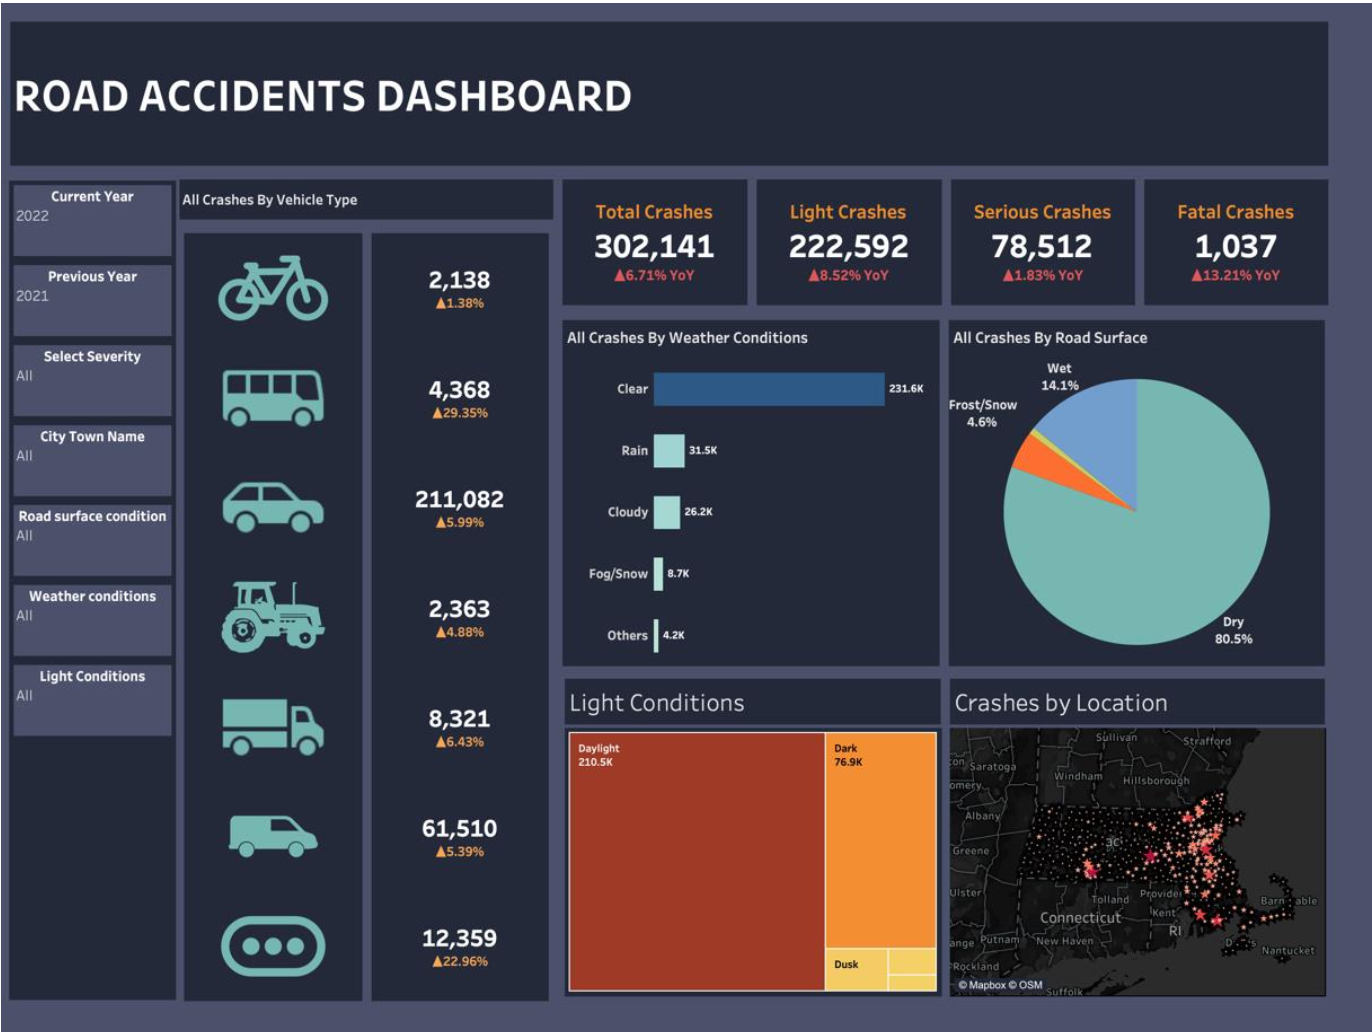

Layout of this report page (visuals, bound fields, positions):
{"tool":"tableau","page":{"name":"Dashboard 1","canvas":[1600,900],"ordinal":0},"visuals":[{"type":"text","box":[10,16,1538,126]},{"type":"text","box":[203,150,446,43]},{"type":"worksheet","title":"Total Crashes","mark":"Automatic","box":[649,150,226,118]},{"type":"worksheet","title":"Light Crashes","mark":"Automatic","box":[875,150,226,118]},{"type":"worksheet","title":"Serious Crashes","mark":"Automatic","box":[1101,150,226,118]},{"type":"worksheet","title":"Fatal Crashes","mark":"Automatic","box":[1327,150,226,118]},{"type":"parameter","param":"[Parameters].[Parameter 1]","box":[9,155,195,70]},{"type":"worksheet","title":"Vehicle Type Images","mark":"Shape","rows":["Vehicle_configuration"],"box":[207,197,219,680]},{"type":"worksheet","title":"Vehicle Type KPI","mark":"Automatic","rows":["Vehicle_configuration"],"box":[426,197,219,680]},{"type":"parameter","param":"[Parameters].[Current Year (copy)_895653406331645953]","box":[9,225,195,70]},{"type":"worksheet","title":"Weather Condition","mark":"Bar","rows":["Weather_conditions"],"cols":["Calculation_792915040177762305"],"box":[649,273,450,311]},{"type":"worksheet","title":"Road Surface","mark":"Pie","box":[1099,273,450,311]},{"type":"parameter","param":"[Parameters].[Parameter 2]","box":[9,295,195,70]},{"type":"filter","title":"Location","param":"[federated.0sejc3v1lh04a01dlrg191ujw808].[none:City Town Name:nk]","box":[9,365,195,70]},{"type":"filter","title":"Road Surface","param":"[federated.0sejc3v1lh04a01dlrg191ujw808].[none:Road_surface_condition:nk]","box":[9,435,195,70]},{"type":"filter","title":"Weather Condition","param":"[federated.0sejc3v1lh04a01dlrg191ujw808].[none:Weather_conditions:nk]","box":[9,505,195,70]},{"type":"filter","title":"Light Conditions","param":"[federated.0sejc3v1lh04a01dlrg191ujw808].[Light Conditions (group)]","box":[9,575,195,70]},{"type":"worksheet","title":"Light Conditions","mark":"Automatic","box":[652,587,449,285]},{"type":"worksheet","title":"Location","mark":"Shape","rows":["Latitude"],"cols":["Longitude"],"box":[1101,587,448,285]}]}

Visuals, with their boxes on the page's 1600x900 design canvas (x1, y1, x2, y2). These are canvas units, not pixel positions in the 1372x1032 screenshot, which may show the page scaled, cropped or inside an application window:
text: [x1=10, y1=16, x2=1548, y2=142]
text: [x1=203, y1=150, x2=649, y2=193]
"Total Crashes" worksheet: [x1=649, y1=150, x2=875, y2=268]
"Light Crashes" worksheet: [x1=875, y1=150, x2=1101, y2=268]
"Serious Crashes" worksheet: [x1=1101, y1=150, x2=1327, y2=268]
"Fatal Crashes" worksheet: [x1=1327, y1=150, x2=1553, y2=268]
parameter: [x1=9, y1=155, x2=204, y2=225]
"Vehicle Type Images" worksheet (Shape marks): [x1=207, y1=197, x2=426, y2=877]
"Vehicle Type KPI" worksheet: [x1=426, y1=197, x2=645, y2=877]
parameter: [x1=9, y1=225, x2=204, y2=295]
"Weather Condition" worksheet (Bar marks): [x1=649, y1=273, x2=1099, y2=584]
"Road Surface" worksheet (Pie marks): [x1=1099, y1=273, x2=1549, y2=584]
parameter: [x1=9, y1=295, x2=204, y2=365]
"Location" filter: [x1=9, y1=365, x2=204, y2=435]
"Road Surface" filter: [x1=9, y1=435, x2=204, y2=505]
"Weather Condition" filter: [x1=9, y1=505, x2=204, y2=575]
"Light Conditions" filter: [x1=9, y1=575, x2=204, y2=645]
"Light Conditions" worksheet: [x1=652, y1=587, x2=1101, y2=872]
"Location" worksheet (Shape marks): [x1=1101, y1=587, x2=1549, y2=872]
